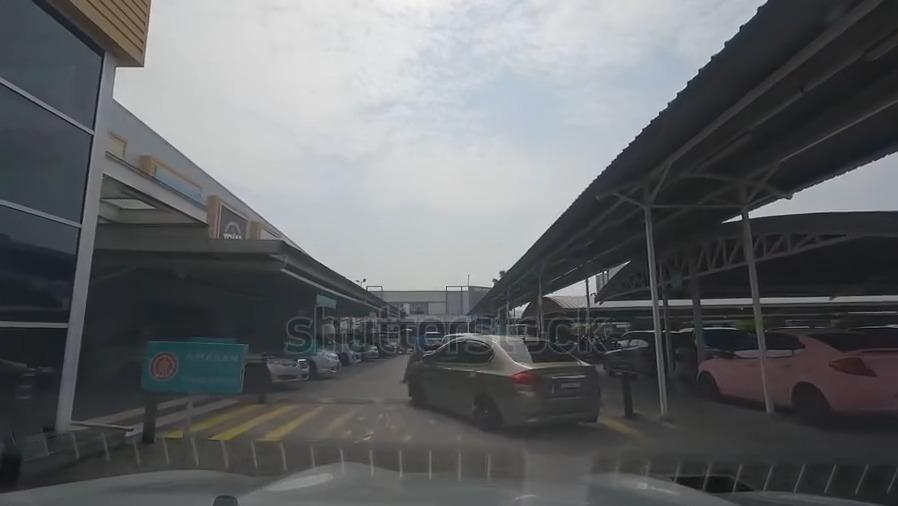car: (695, 334, 898, 418), (402, 343, 596, 424), (96, 336, 308, 383), (602, 331, 687, 377), (306, 347, 339, 377), (335, 339, 359, 363), (426, 328, 440, 348), (363, 343, 379, 358)
manhole: (668, 471, 751, 496)
pedestrian: (156, 413, 683, 447)
person: (408, 323, 426, 359)
speedbump: (280, 393, 415, 408)
wheel: (112, 361, 139, 385), (245, 364, 269, 389)
